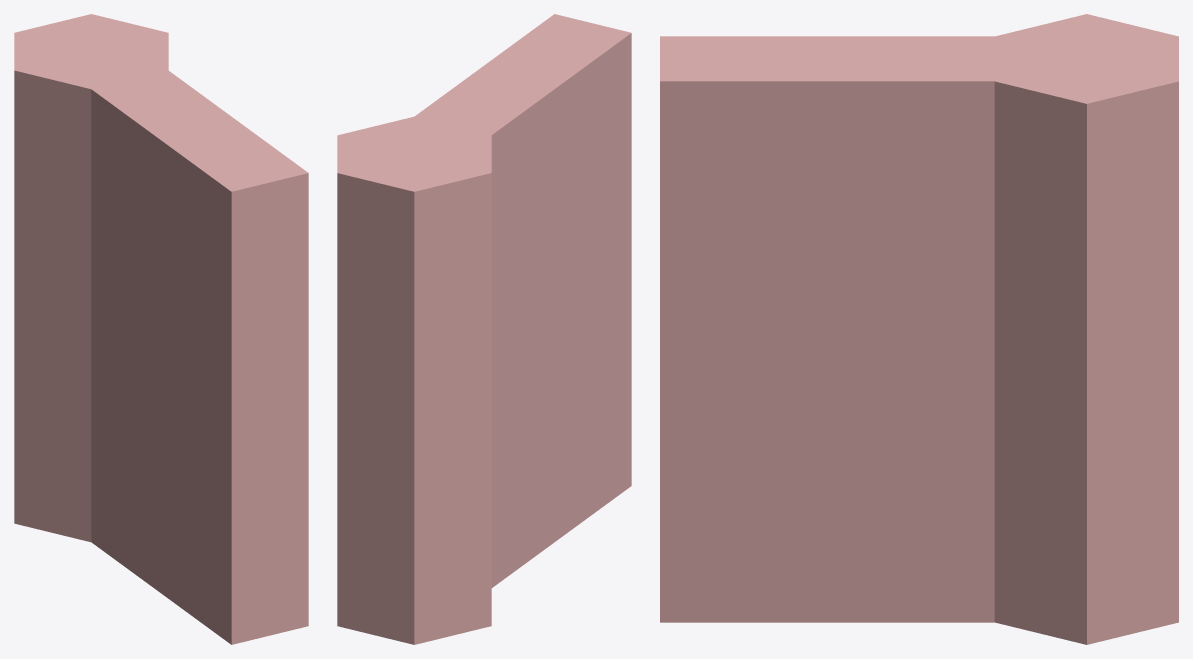
Rendered from Level01_mapPiece_ramp_v02.fbx.
The picture shows the model from 3 angles, left to right: view 1: azimuth 30°, elevation 25°; view 2: azimuth 150°, elevation 25°; view 3: azimuth 270°, elevation 25°; orthographic projection. The views are drawn at different scales.
Visible parts, largest first — view 1: movingPiece_ramp; view 2: movingPiece_ramp; view 3: movingPiece_ramp.
Boxes of the visible parts, x1,y1,x2,y2 form: movingPiece_ramp: (14,14,308,644); movingPiece_ramp: (337,14,631,644); movingPiece_ramp: (660,14,1178,644).
Bounding box in the file's own units: 194 × 543 × 472.
